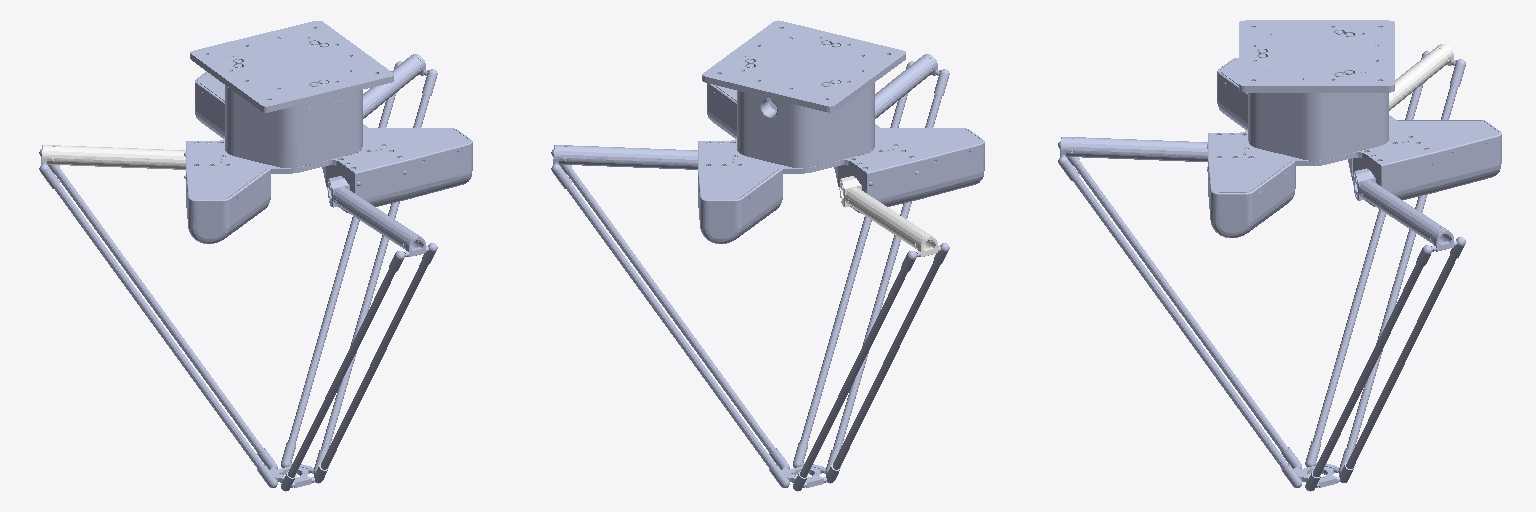
The robot description file, URDF, robot "deltaxs_v4_d800":
<?xml version="1.0" encoding="utf-8"?>
<!-- This URDF was automatically created by SolidWorks to URDF Exporter! Originally created by [author] ([email redacted]) 
     Commit Version: 1.6.0-1-g15f4949  Build Version: 1.6.7594.29634
     For more information. please see http://wiki.ros.org/sw_urdf_exporter -->
<robot
  name="deltaxs_v4_d800">
  <link
    name="base_link">
    <inertial>
      <origin
        xyz="0 0 0"
        rpy="0 0 0" />
      <mass
        value="4.116" />
      <inertia
        ixx="0.019013"
        ixy="-3.1198E-06"
        ixz="6.0397E-07"
        iyy="0.018987"
        iyz="-1.6736E-06"
        izz="0.033013" />
    </inertial>
    <visual>
      <origin
        xyz="0 0 0"
        rpy="0 0 0" />
      <geometry>
        <mesh
          filename="package://deltaxs_v4_d800/base_link.STL" />
      </geometry>
      <material
        name="LightGrey">
        <color
          rgba="0.79216 0.81961 0.93333 1" />
      </material>
    </visual>
    <collision>
      <origin
        xyz="0 0 0"
        rpy="0 0 0" />
      <geometry>
        <mesh
          filename="package://deltaxs_v4_d800/base_link.STL" />
      </geometry>
    </collision>
  </link>
  <link
    name="rf1_Link">
    <inertial>
      <origin
        xyz="-0.000180025755014773 -0.095698641603588 -0.00334460441190246"
        rpy="0 0 0" />
      <mass
        value="0.105839941889362" />
      <inertia
        ixx="0.000251568598676522"
        ixy="-1.3190478298987E-07"
        ixz="-1.76570125670921E-11"
        iyy="2.49430023061273E-05"
        iyz="9.97256647574034E-07"
        izz="0.000257239396139277" />
    </inertial>
    <visual>
      <origin
        xyz="0 0 0"
        rpy="0 0 0" />
      <geometry>
        <mesh
          filename="package://deltaxs_v4_d800/rf1_Link.STL" />
      </geometry>
      <material
        name="LightGrey">
        <color
          rgba="0.792156862745098 0.819607843137255 0.933333333333333 1" />
      </material>
    </visual>
    <collision>
      <origin
        xyz="0 0 0"
        rpy="0 0 0" />
      <geometry>
        <mesh
          filename="package://deltaxs_v4_d800/rf1_Link.STL" />
      </geometry>
    </collision>
  </link>
  <joint
    name="theta1"
    type="continuous">
    <origin
      xyz="0 -0.14772 -0.1908"
      rpy="-1.5708 -1.5279 1.5708" />
    <parent
      link="base_link" />
    <child
      link="rf1_Link" />
    <axis
      xyz="0 0 -1" />
  </joint>
  <link
    name="ball_top1_Link">
    <inertial>
      <origin
        xyz="0 0 4.96483227560846E-15"
        rpy="0 0 0" />
      <mass
        value="0.00403450389151663" />
      <inertia
        ixx="5.68434704387569E-07"
        ixy="0"
        ixz="-6.99509969560986E-23"
        iyy="5.68434704387569E-07"
        iyz="1.26866599360354E-22"
        izz="4.2954616111995E-08" />
    </inertial>
    <visual>
      <origin
        xyz="0 0 0"
        rpy="0 0 0" />
      <geometry>
        <mesh
          filename="package://deltaxs_v4_d800/ball_top1_Link.STL" />
      </geometry>
      <material
        name="LightGrey">
        <color
          rgba="0.792156862745098 0.819607843137255 0.933333333333333 1" />
      </material>
    </visual>
    <collision>
      <origin
        xyz="0 0 0"
        rpy="0 0 0" />
      <geometry>
        <mesh
          filename="package://deltaxs_v4_d800/ball_top1_Link.STL" />
      </geometry>
    </collision>
  </link>
  <joint
    name="ball_top1"
    type="continuous">
    <origin
      xyz="-0.0125000000000005 -0.291500000000001 0"
      rpy="0 0 2.51628974348087" />
    <parent
      link="rf1_Link" />
    <child
      link="ball_top1_Link" />
    <axis
      xyz="0 0 1" />
  </joint>
  <link
    name="re1_Link">
    <inertial>
      <origin
        xyz="-5.55111512312578E-16 -6.24500451351651E-17 -0.368"
        rpy="0 0 0" />
      <mass
        value="0.0573157505737431" />
      <inertia
        ixx="0.00168724685333462"
        ixy="-1.95026420120651E-23"
        ixz="-9.82558218814988E-19"
        iyy="0.00168724685333461"
        iyz="-2.73831028766095E-19"
        izz="2.40911741756134E-06" />
    </inertial>
    <visual>
      <origin
        xyz="0 0 0"
        rpy="0 0 0" />
      <geometry>
        <mesh
          filename="package://deltaxs_v4_d800/re1_Link.STL" />
      </geometry>
      <material
        name="LightGrey">
        <color
          rgba="0.792156862745098 0.819607843137255 0.933333333333333 1" />
      </material>
    </visual>
    <collision>
      <origin
        xyz="0 0 0"
        rpy="0 0 0" />
      <geometry>
        <mesh
          filename="package://deltaxs_v4_d800/re1_Link.STL" />
      </geometry>
    </collision>
  </link>
  <joint
    name="re1"
    type="continuous">
    <origin
      xyz="0 0 0.0333733971724094"
      rpy="-1.57079632679489 0 1.5707963267949" />
    <parent
      link="ball_top1_Link" />
    <child
      link="re1_Link" />
    <axis
      xyz="1 0 0" />
  </joint>
  <link
    name="ball_bot1_Link">
    <inertial>
      <origin
        xyz="0 -3.88578058618805E-16 -0.0333733971724045"
        rpy="0 0 0" />
      <mass
        value="0.00403450389151663" />
      <inertia
        ixx="5.68434704387569E-07"
        ixy="0"
        ixz="-1.50369652192614E-22"
        iyy="5.68434704387569E-07"
        iyz="-5.61340337985591E-23"
        izz="4.2954616111995E-08" />
    </inertial>
    <visual>
      <origin
        xyz="0 0 0"
        rpy="0 0 0" />
      <geometry>
        <mesh
          filename="package://deltaxs_v4_d800/ball_bot1_Link.STL" />
      </geometry>
      <material
        name="LightGrey">
        <color
          rgba="0.792156862745098 0.819607843137255 0.933333333333333 1" />
      </material>
    </visual>
    <collision>
      <origin
        xyz="0 0 0"
        rpy="0 0 0" />
      <geometry>
        <mesh
          filename="package://deltaxs_v4_d800/ball_bot1_Link.STL" />
      </geometry>
    </collision>
  </link>
  <joint
    name="re_ball"
    type="continuous">
    <origin
      xyz="0 0 -0.736"
      rpy="1.57079632679489 1.5707963267949 0" />
    <parent
      link="re1_Link" />
    <child
      link="ball_bot1_Link" />
    <axis
      xyz="0 1 0" />
  </joint>
  <link
    name="ball_moving_Link">
    <inertial>
      <origin
        xyz="0.0333733971724034 0.0346410161513765 -0.000395409279406289"
        rpy="0 0 0" />
      <mass
        value="0.024578598394115" />
      <inertia
        ixx="1.11301111565817E-05"
        ixy="-1.0553815217793E-21"
        ixz="2.98720633800108E-23"
        iyy="1.1130111156582E-05"
        iyz="-2.37814426108995E-21"
        izz="2.18824601689992E-05" />
    </inertial>
    <visual>
      <origin
        xyz="0 0 0"
        rpy="0 0 0" />
      <geometry>
        <mesh
          filename="package://deltaxs_v4_d800/ball_moving_Link.STL" />
      </geometry>
      <material
        name="LightGrey">
        <color
          rgba="0.792156862745098 0.819607843137255 0.933333333333333 1" />
      </material>
    </visual>
    <collision>
      <origin
        xyz="0 0 0"
        rpy="0 0 0" />
      <geometry>
        <mesh
          filename="package://deltaxs_v4_d800/ball_moving_Link.STL" />
      </geometry>
    </collision>
  </link>
  <joint
    name="ball_moving"
    type="continuous">
    <origin
      xyz="0 0 0"
      rpy="2.5591 1.5708 0" />
    <parent
      link="ball_bot1_Link" />
    <child
      link="ball_moving_Link" />
    <axis
      xyz="-1 0 0" />
  </joint>
  <link
    name="ball_bot2_Link">
    <inertial>
      <origin
        xyz="-1.33226762955019E-15 1.0547118733939E-15 -0.0133133014137978"
        rpy="0 0 0" />
      <mass
        value="0.00403450389151663" />
      <inertia
        ixx="5.68434704387569E-07"
        ixy="5.29395592033938E-23"
        ixz="-1.75090631434492E-22"
        iyy="5.68434704387569E-07"
        iyz="-7.85728408212561E-23"
        izz="4.2954616111995E-08" />
    </inertial>
    <visual>
      <origin
        xyz="0 0 0"
        rpy="0 0 0" />
      <geometry>
        <mesh
          filename="package://deltaxs_v4_d800/ball_bot2_Link.STL" />
      </geometry>
      <material
        name="LightGrey">
        <color
          rgba="0.792156862745098 0.819607843137255 0.933333333333333 1" />
      </material>
    </visual>
    <collision>
      <origin
        xyz="0 0 0"
        rpy="0 0 0" />
      <geometry>
        <mesh
          filename="package://deltaxs_v4_d800/ball_bot2_Link.STL" />
      </geometry>
    </collision>
  </link>
  <joint
    name="ball_bot2"
    type="fixed">
    <origin
      xyz="0.07003 0.040432 0"
      rpy="-1.5708 0.98835 -2.618" />
    <parent
      link="ball_moving_Link" />
    <child
      link="ball_bot2_Link" />
    <axis
      xyz="0 0 0" />
  </joint>
  <link
    name="ball_bot3_Link">
    <inertial>
      <origin
        xyz="-4.44089209850063E-16 1.4432899320127E-15 0.0465710472243423"
        rpy="0 0 0" />
      <mass
        value="0.00403450389151663" />
      <inertia
        ixx="5.68434704387569E-07"
        ixy="-2.64697796016969E-23"
        ixz="3.99022495151383E-22"
        iyy="5.68434704387569E-07"
        iyz="-1.1213966056023E-22"
        izz="4.2954616111995E-08" />
    </inertial>
    <visual>
      <origin
        xyz="0 0 0"
        rpy="0 0 0" />
      <geometry>
        <mesh
          filename="package://deltaxs_v4_d800/ball_bot3_Link.STL" />
      </geometry>
      <material
        name="LightGrey">
        <color
          rgba="0.792156862745098 0.819607843137255 0.933333333333333 1" />
      </material>
    </visual>
    <collision>
      <origin
        xyz="0 0 0"
        rpy="0 0 0" />
      <geometry>
        <mesh
          filename="package://deltaxs_v4_d800/ball_bot3_Link.STL" />
      </geometry>
    </collision>
  </link>
  <joint
    name="ball_bot3"
    type="fixed">
    <origin
      xyz="-0.019912 0.01163 0"
      rpy="1.5708 -0.98835 2.618" />
    <parent
      link="ball_moving_Link" />
    <child
      link="ball_bot3_Link" />
    <axis
      xyz="0 0 0" />
  </joint>
  <link
    name="re2_Link">
    <inertial>
      <origin
        xyz="-3.88578058618805E-16 -9.71445146547012E-17 -0.368"
        rpy="0 0 0" />
      <mass
        value="0.057315750573743" />
      <inertia
        ixx="0.00168724685333462"
        ixy="-8.51517412309534E-23"
        ixz="-1.17981101640683E-18"
        iyy="0.00168724685333462"
        iyz="-3.03320016728441E-19"
        izz="2.4091174175618E-06" />
    </inertial>
    <visual>
      <origin
        xyz="0 0 0"
        rpy="0 0 0" />
      <geometry>
        <mesh
          filename="package://deltaxs_v4_d800/re2_Link.STL" />
      </geometry>
      <material
        name="LightGrey">
        <color
          rgba="0.792156862745098 0.819607843137255 0.933333333333333 1" />
      </material>
    </visual>
    <collision>
      <origin
        xyz="0 0 0"
        rpy="0 0 0" />
      <geometry>
        <mesh
          filename="package://deltaxs_v4_d800/re2_Link.STL" />
      </geometry>
    </collision>
  </link>
  <joint
    name="re2"
    type="continuous">
    <origin
      xyz="0 0 -0.0333733971723995"
      rpy="-1.57079632679489 0 1.5707963267949" />
    <parent
      link="ball_top1_Link" />
    <child
      link="re2_Link" />
    <axis
      xyz="1 0 0" />
  </joint>
  <link
    name="rf2_Link">
    <inertial>
      <origin
        xyz="-0.000180009871745185 -0.105698167078432 -0.00334457386232478"
        rpy="0 0 0" />
      <mass
        value="0.105840527396936" />
      <inertia
        ixx="0.000251568641704869"
        ixy="-1.31915124400507E-07"
        ixz="-2.48118486774048E-11"
        iyy="2.49431921936754E-05"
        iyz="9.97258259821399E-07"
        izz="0.000257239597683217" />
    </inertial>
    <visual>
      <origin
        xyz="0 0 0"
        rpy="0 0 0" />
      <geometry>
        <mesh
          filename="package://deltaxs_v4_d800/rf2_Link.STL" />
      </geometry>
      <material
        name="LightGrey">
        <color
          rgba="0.792156862745098 0.819607843137255 0.933333333333333 1" />
      </material>
    </visual>
    <collision>
      <origin
        xyz="0 0 0"
        rpy="0 0 0" />
      <geometry>
        <mesh
          filename="package://deltaxs_v4_d800/rf2_Link.STL" />
      </geometry>
    </collision>
  </link>
  <joint
    name="theta2"
    type="continuous">
    <origin
      xyz="0.11928 0.068867 -0.19123"
      rpy="-1.5708 -1.5279 -2.618" />
    <parent
      link="base_link" />
    <child
      link="rf2_Link" />
    <axis
      xyz="0 0 -1" />
  </joint>
  <link
    name="ball_top2_Link">
    <inertial>
      <origin
        xyz="0 5.55111512312578E-17 -2.22044604925031E-16"
        rpy="0 0 0" />
      <mass
        value="0.00403450389151663" />
      <inertia
        ixx="5.68434704387569E-07"
        ixy="-5.29395592033938E-23"
        ixz="2.25005090297828E-22"
        iyy="5.68434704387569E-07"
        iyz="4.31443928495655E-22"
        izz="4.2954616111995E-08" />
    </inertial>
    <visual>
      <origin
        xyz="0 0 0"
        rpy="0 0 0" />
      <geometry>
        <mesh
          filename="package://deltaxs_v4_d800/ball_top2_Link.STL" />
      </geometry>
      <material
        name="LightGrey">
        <color
          rgba="0.792156862745098 0.819607843137255 0.933333333333333 1" />
      </material>
    </visual>
    <collision>
      <origin
        xyz="0 0 0"
        rpy="0 0 0" />
      <geometry>
        <mesh
          filename="package://deltaxs_v4_d800/ball_top2_Link.STL" />
      </geometry>
    </collision>
  </link>
  <joint
    name="ball_top2"
    type="continuous">
    <origin
      xyz="-0.012500000000001 -0.3015 0"
      rpy="0 0 2.51628974348086" />
    <parent
      link="rf2_Link" />
    <child
      link="ball_top2_Link" />
    <axis
      xyz="0 0 1" />
  </joint>
  <link
    name="re3_Link">
    <inertial>
      <origin
        xyz="6.66133814775094E-16 -1.13797860024079E-15 -0.368000000000001"
        rpy="0 0 0" />
      <mass
        value="0.057315750573743" />
      <inertia
        ixx="0.00168724685333462"
        ixy="6.92705888295819E-20"
        ixz="2.80389081364855E-18"
        iyy="0.00168724685333462"
        iyz="-5.12751653114693E-18"
        izz="2.40911741756149E-06" />
    </inertial>
    <visual>
      <origin
        xyz="0 0 0"
        rpy="0 0 0" />
      <geometry>
        <mesh
          filename="package://deltaxs_v4_d800/re3_Link.STL" />
      </geometry>
      <material
        name="LightGrey">
        <color
          rgba="0.792156862745098 0.819607843137255 0.933333333333333 1" />
      </material>
    </visual>
    <collision>
      <origin
        xyz="0 0 0"
        rpy="0 0 0" />
      <geometry>
        <mesh
          filename="package://deltaxs_v4_d800/re3_Link.STL" />
      </geometry>
    </collision>
  </link>
  <joint
    name="re3"
    type="continuous">
    <origin
      xyz="0 0 0.0333733971724042"
      rpy="-1.5707963267949 0 1.5707963267949" />
    <parent
      link="ball_top2_Link" />
    <child
      link="re3_Link" />
    <axis
      xyz="1 0 0" />
  </joint>
  <link
    name="re4_Link">
    <inertial>
      <origin
        xyz="6.66133814775094E-16 -2.91433543964104E-16 -0.368"
        rpy="0 0 0" />
      <mass
        value="0.057315750573743" />
      <inertia
        ixx="0.00168724685333461"
        ixy="-3.79244537653438E-20"
        ixz="1.9421406689357E-18"
        iyy="0.00168724685333461"
        iyz="-7.66827937291266E-19"
        izz="2.4091174175619E-06" />
    </inertial>
    <visual>
      <origin
        xyz="0 0 0"
        rpy="0 0 0" />
      <geometry>
        <mesh
          filename="package://deltaxs_v4_d800/re4_Link.STL" />
      </geometry>
      <material
        name="LightGrey">
        <color
          rgba="0.792156862745098 0.819607843137255 0.933333333333333 1" />
      </material>
    </visual>
    <collision>
      <origin
        xyz="0 0 0"
        rpy="0 0 0" />
      <geometry>
        <mesh
          filename="package://deltaxs_v4_d800/re4_Link.STL" />
      </geometry>
    </collision>
  </link>
  <joint
    name="re4"
    type="continuous">
    <origin
      xyz="0 0 -0.0333733971724047"
      rpy="-1.5707963267949 0 1.5707963267949" />
    <parent
      link="ball_top2_Link" />
    <child
      link="re4_Link" />
    <axis
      xyz="1 0 0" />
  </joint>
  <link
    name="rf3_Link">
    <inertial>
      <origin
        xyz="0 0 0"
        rpy="0 0 0" />
      <mass
        value="0" />
      <inertia
        ixx="0"
        ixy="0"
        ixz="0"
        iyy="0"
        iyz="0"
        izz="0" />
    </inertial>
    <visual>
      <origin
        xyz="0 0 0"
        rpy="0 0 0" />
      <geometry>
        <mesh
          filename="package://deltaxs_v4_d800/rf3_Link.STL" />
      </geometry>
      <material
        name="LightGrey">
        <color
          rgba="1 1 1 1" />
      </material>
    </visual>
    <collision>
      <origin
        xyz="0 0 0"
        rpy="0 0 0" />
      <geometry>
        <mesh
          filename="package://deltaxs_v4_d800/rf3_Link.STL" />
      </geometry>
    </collision>
  </link>
  <joint
    name="theta3"
    type="continuous">
    <origin
      xyz="-0.119280710091501 0.068866750080458 -0.191228422747961"
      rpy="-1.5707963267949 -1.52794093527818 -0.523598775598293" />
    <parent
      link="base_link" />
    <child
      link="rf3_Link" />
    <axis
      xyz="0 0 -1" />
  </joint>
  <link
    name="ball_top3_Link">
    <inertial>
      <origin
        xyz="-2.77555756156289E-17 1.11022302462516E-16 -1.66533453693773E-16"
        rpy="0 0 0" />
      <mass
        value="0.00403450389151663" />
      <inertia
        ixx="5.68434704387569E-07"
        ixy="-1.05879118406788E-22"
        ixz="1.31270317227593E-21"
        iyy="5.68434704387569E-07"
        iyz="-3.02898626422217E-22"
        izz="4.2954616111995E-08" />
    </inertial>
    <visual>
      <origin
        xyz="0 0 0"
        rpy="0 0 0" />
      <geometry>
        <mesh
          filename="package://deltaxs_v4_d800/ball_top3_Link.STL" />
      </geometry>
      <material
        name="LightGrey">
        <color
          rgba="0.792156862745098 0.819607843137255 0.933333333333333 1" />
      </material>
    </visual>
    <collision>
      <origin
        xyz="0 0 0"
        rpy="0 0 0" />
      <geometry>
        <mesh
          filename="package://deltaxs_v4_d800/ball_top3_Link.STL" />
      </geometry>
    </collision>
  </link>
  <joint
    name="ball_top3"
    type="continuous">
    <origin
      xyz="-0.0125000000000005 -0.3015 0"
      rpy="0 0 2.51628974348087" />
    <parent
      link="rf3_Link" />
    <child
      link="ball_top3_Link" />
    <axis
      xyz="0 0 1" />
  </joint>
  <link
    name="re5_Link">
    <inertial>
      <origin
        xyz="-4.44089209850063E-16 3.05311331771918E-16 -0.368"
        rpy="0 0 0" />
      <mass
        value="0.057315750573743" />
      <inertia
        ixx="0.00168724685333462"
        ixy="-1.36090828351888E-20"
        ixz="-1.53556485425364E-18"
        iyy="0.00168724685333462"
        iyz="1.85158360849357E-18"
        izz="2.40911741756136E-06" />
    </inertial>
    <visual>
      <origin
        xyz="0 0 0"
        rpy="0 0 0" />
      <geometry>
        <mesh
          filename="package://deltaxs_v4_d800/re5_Link.STL" />
      </geometry>
      <material
        name="LightGrey">
        <color
          rgba="0.792156862745098 0.819607843137255 0.933333333333333 1" />
      </material>
    </visual>
    <collision>
      <origin
        xyz="0 0 0"
        rpy="0 0 0" />
      <geometry>
        <mesh
          filename="package://deltaxs_v4_d800/re5_Link.STL" />
      </geometry>
    </collision>
  </link>
  <joint
    name="re5"
    type="continuous">
    <origin
      xyz="0 0 0.0333733971724043"
      rpy="-1.5707963267949 0 1.5707963267949" />
    <parent
      link="ball_top3_Link" />
    <child
      link="re5_Link" />
    <axis
      xyz="1 0 0" />
  </joint>
  <link
    name="re6_Link">
    <inertial>
      <origin
        xyz="-2.22044604925031E-16 2.4980018054066E-16 -0.368"
        rpy="0 0 0" />
      <mass
        value="0.057315750573743" />
      <inertia
        ixx="0.00168724685333462"
        ixy="2.70673505260576E-20"
        ixz="-1.72614726738586E-18"
        iyy="0.00168724685333462"
        iyz="1.20806046488522E-18"
        izz="2.40911741756203E-06" />
    </inertial>
    <visual>
      <origin
        xyz="0 0 0"
        rpy="0 0 0" />
      <geometry>
        <mesh
          filename="package://deltaxs_v4_d800/re6_Link.STL" />
      </geometry>
      <material
        name="LightGrey">
        <color
          rgba="0.792156862745098 0.819607843137255 0.933333333333333 1" />
      </material>
    </visual>
    <collision>
      <origin
        xyz="0 0 0"
        rpy="0 0 0" />
      <geometry>
        <mesh
          filename="package://deltaxs_v4_d800/re6_Link.STL" />
      </geometry>
    </collision>
  </link>
  <joint
    name="re6"
    type="continuous">
    <origin
      xyz="0 0 -0.0333733971724047"
      rpy="-1.5707963267949 0 1.5707963267949" />
    <parent
      link="ball_top3_Link" />
    <child
      link="re6_Link" />
    <axis
      xyz="1 0 0" />
  </joint>
</robot>

--- Render facts (derived) ---
The picture shows the robot from 3 angles, left to right: view 1: azimuth 30°, elevation 25°; view 2: azimuth 150°, elevation 25°; view 3: azimuth 270°, elevation 25°; orthographic projection.
Robot: deltaxs_v4_d800 — 17 links, 16 joints (14 continuous, 2 fixed); root link base_link; default pose: every joint at zero.
Links seen in each view (by area): view 1: base_link, re6_Link, re5_Link, rf3_Link, rf1_Link, re4_Link, re3_Link, re1_Link, re2_Link, rf2_Link; view 2: base_link, re4_Link, re3_Link, rf2_Link, rf3_Link, re2_Link, re1_Link, re5_Link, re6_Link, rf1_Link; view 3: base_link, re2_Link, re1_Link, rf1_Link, rf2_Link, re6_Link, re5_Link, re3_Link, re4_Link, rf3_Link.
Boxes of the visible links, bbox=[...] form: base_link: bbox=[184, 21, 472, 243]; re6_Link: bbox=[39, 164, 277, 487]; re5_Link: bbox=[39, 149, 277, 469]; rf3_Link: bbox=[41, 145, 185, 169]; rf1_Link: bbox=[328, 176, 425, 256]; re4_Link: bbox=[281, 61, 401, 467]; re3_Link: bbox=[313, 69, 437, 474]; re1_Link: bbox=[281, 251, 404, 491]; re2_Link: bbox=[314, 243, 437, 483]; rf2_Link: bbox=[363, 54, 425, 118]; base_link: bbox=[698, 20, 984, 243]; re4_Link: bbox=[551, 164, 789, 487]; re3_Link: bbox=[551, 149, 789, 469]; rf2_Link: bbox=[553, 145, 697, 169]; rf3_Link: bbox=[840, 176, 937, 256]; re2_Link: bbox=[793, 61, 913, 467]; re1_Link: bbox=[825, 69, 949, 474]; re5_Link: bbox=[793, 251, 916, 491]; re6_Link: bbox=[826, 243, 949, 483]; rf1_Link: bbox=[875, 54, 937, 118]; base_link: bbox=[1207, 20, 1501, 237]; re2_Link: bbox=[1058, 156, 1301, 487]; re1_Link: bbox=[1058, 141, 1301, 468]; rf1_Link: bbox=[1060, 137, 1207, 161]; rf2_Link: bbox=[1353, 168, 1453, 251]; re6_Link: bbox=[1305, 51, 1429, 467]; re5_Link: bbox=[1339, 59, 1465, 474]; re3_Link: bbox=[1305, 245, 1432, 491]; re4_Link: bbox=[1339, 237, 1465, 482]; rf3_Link: bbox=[1389, 44, 1453, 110].
Bounding box of the posed robot: 0.8126 × 0.7683 × 0.8147 m (x, y, z).
Meshes: 17 distinct files referenced, 17 mesh visuals loaded (17 binary STL).